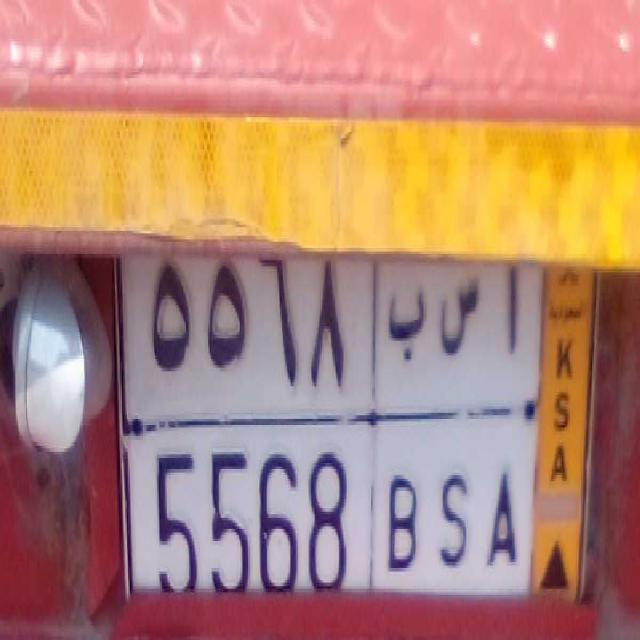license_plate: (114, 411, 538, 640)
